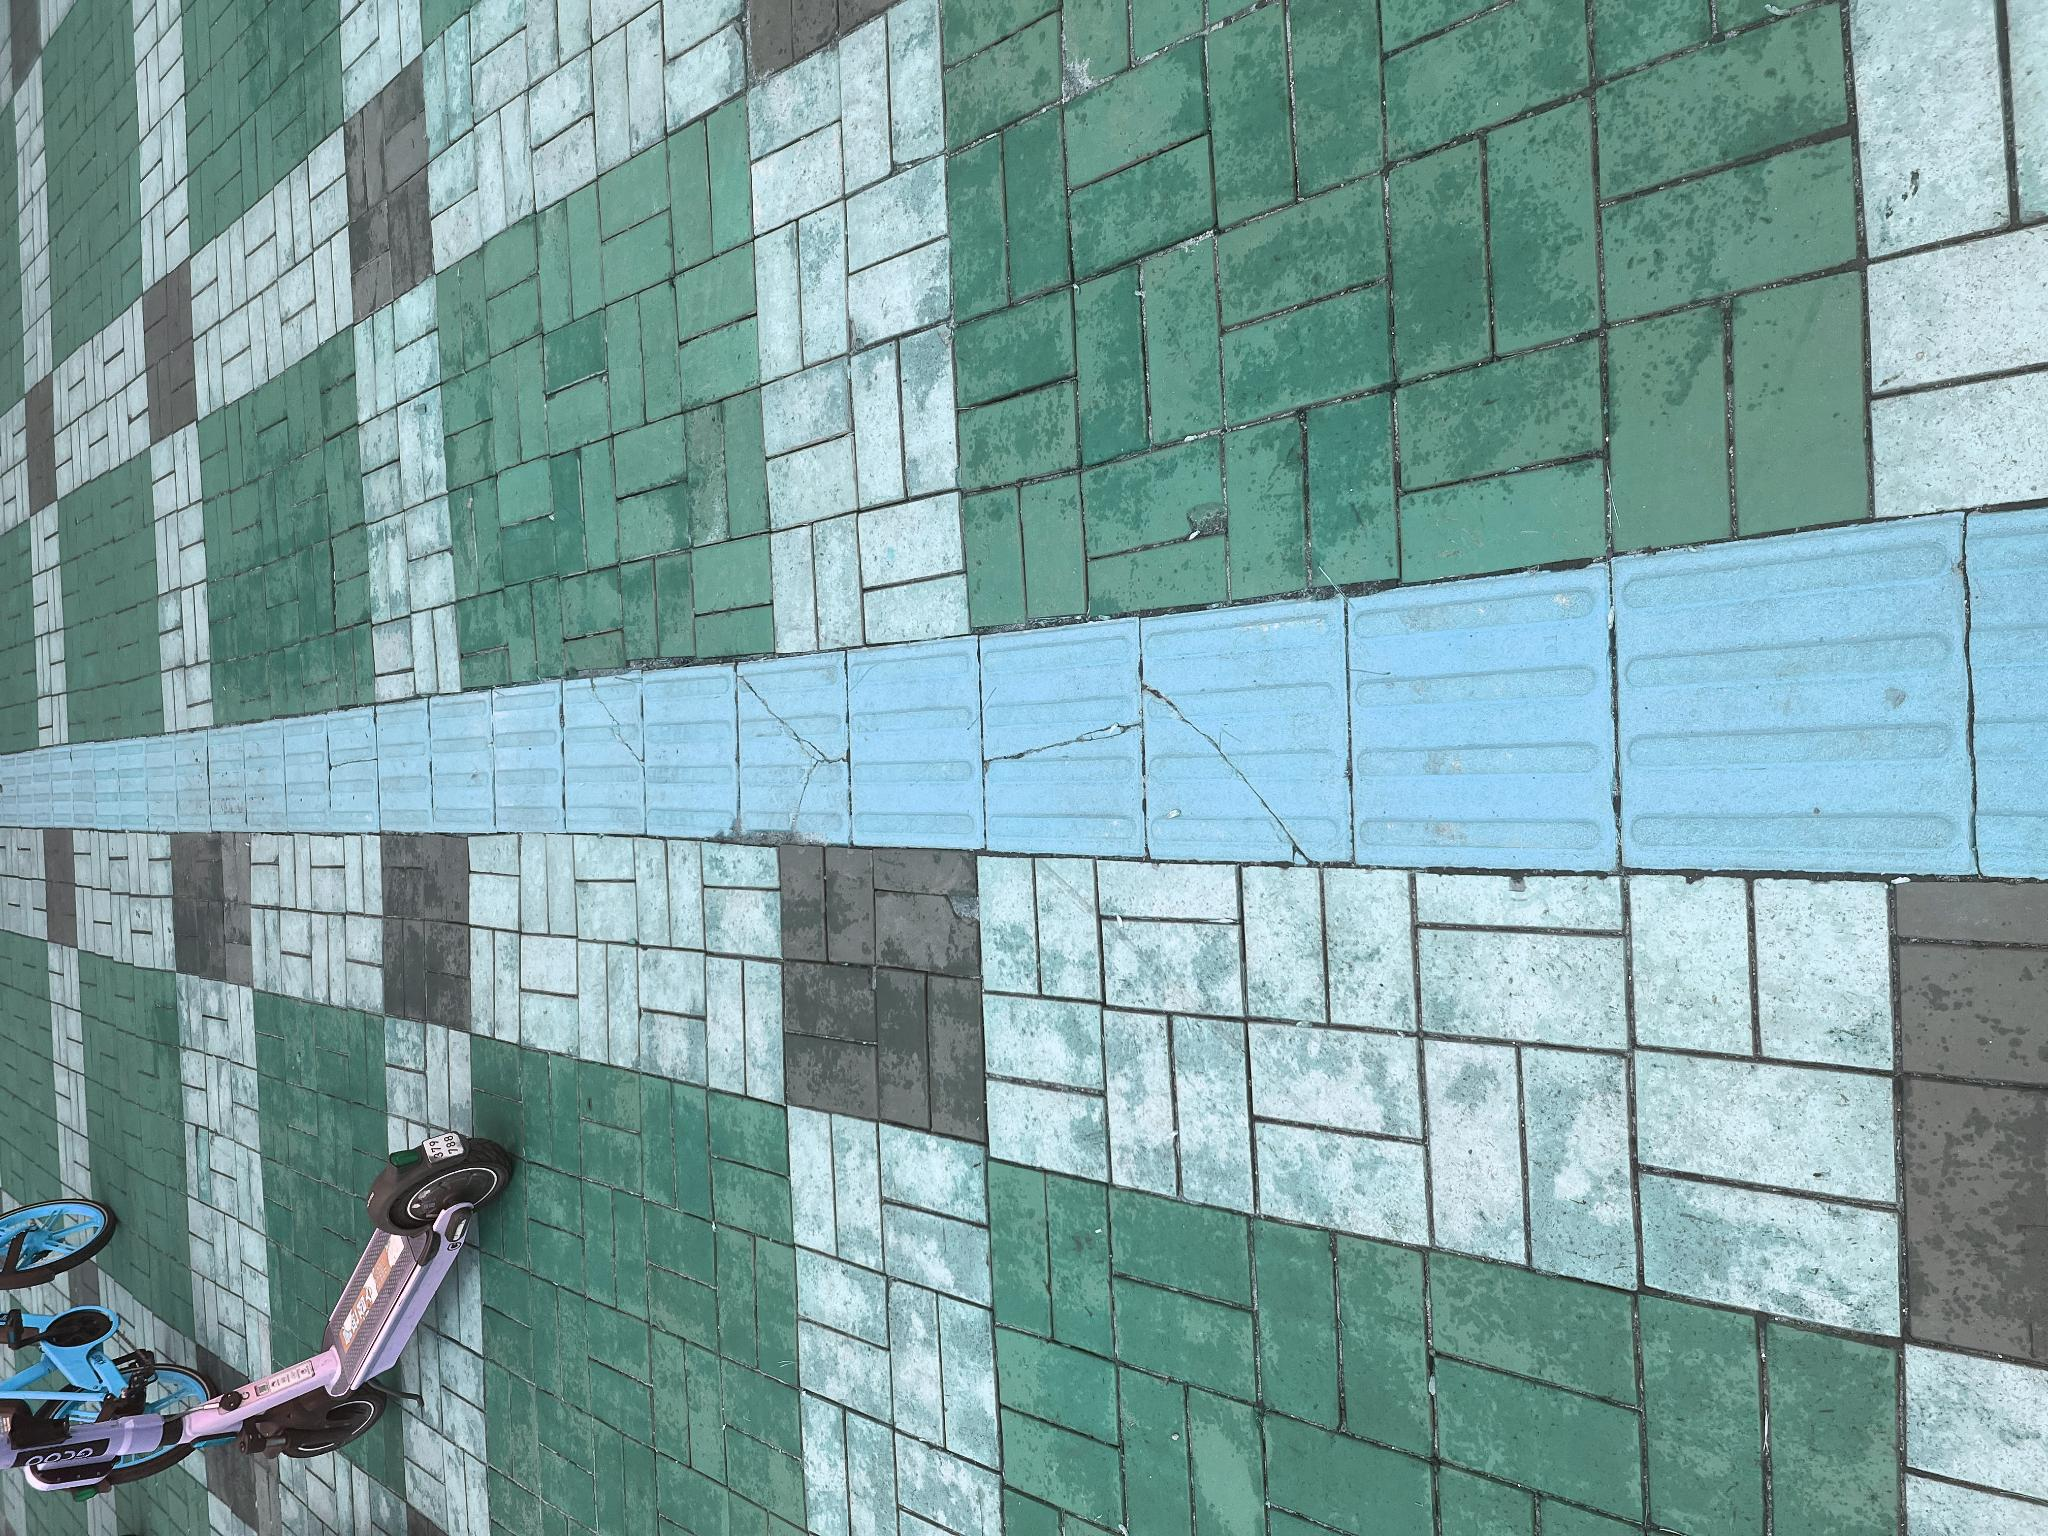Straight block broken: (674, 1142, 942, 1350), (681, 981, 918, 1143), (692, 740, 883, 848), (703, 562, 864, 645)
Straight block normal: (668, 1348, 963, 1536)
